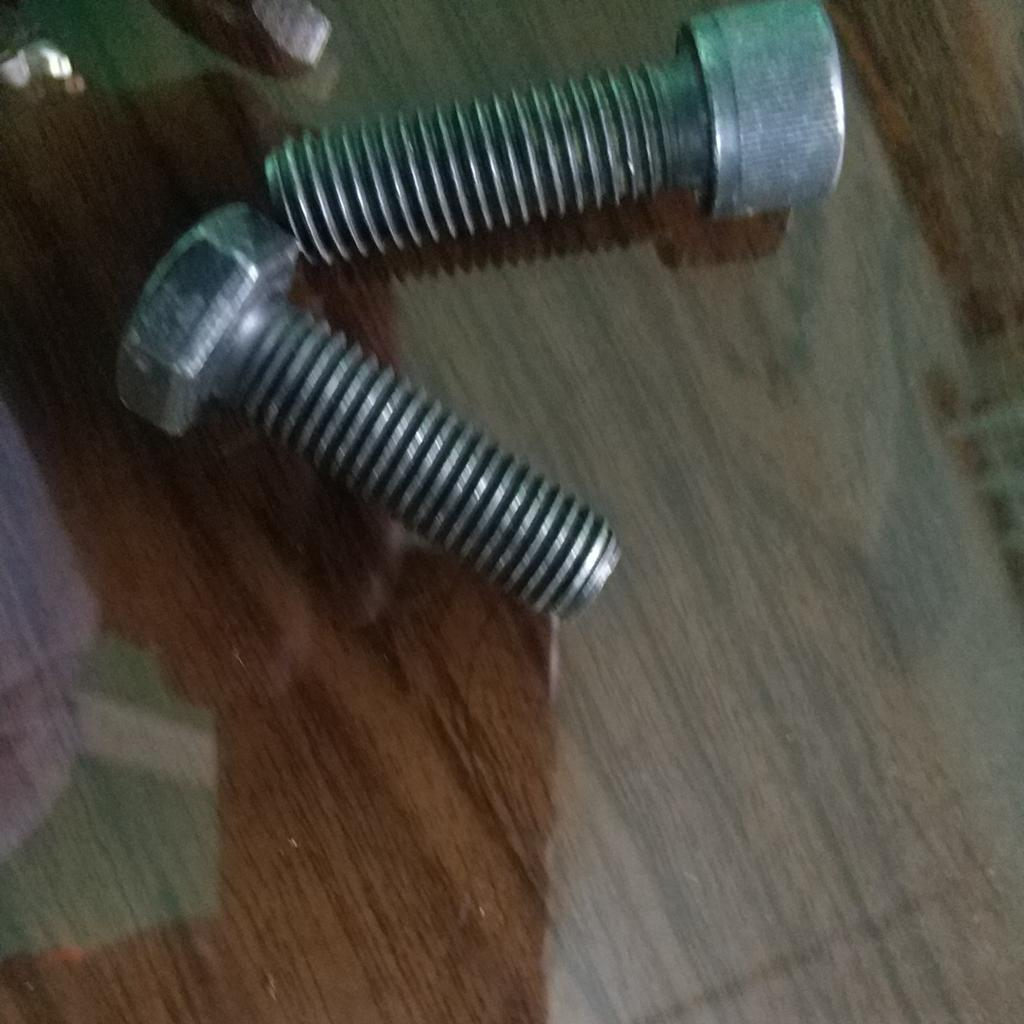screwtype1black: (392, 2, 857, 230)
screwtype2black: (113, 200, 621, 615)
